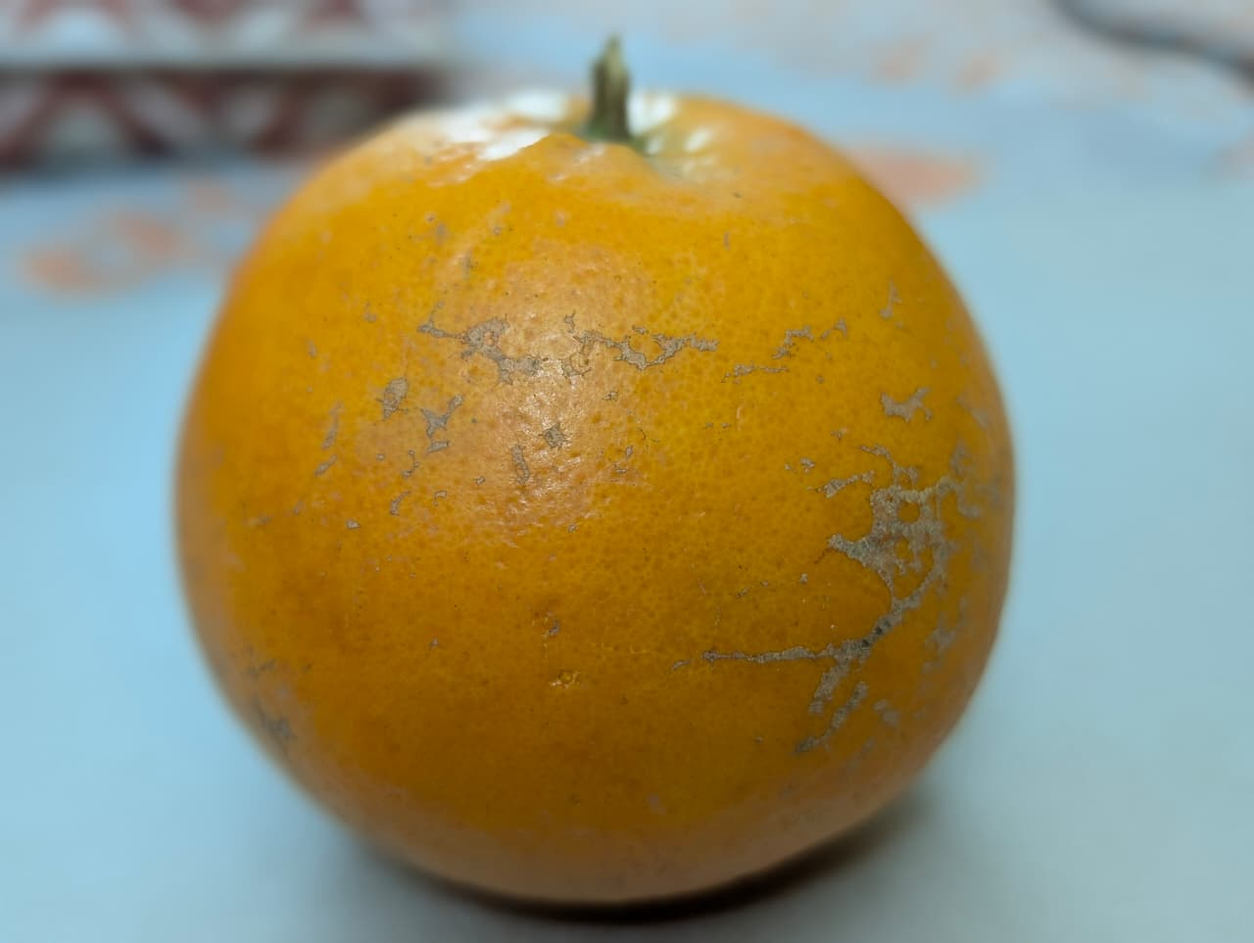orange: (303, 41, 1123, 879)
